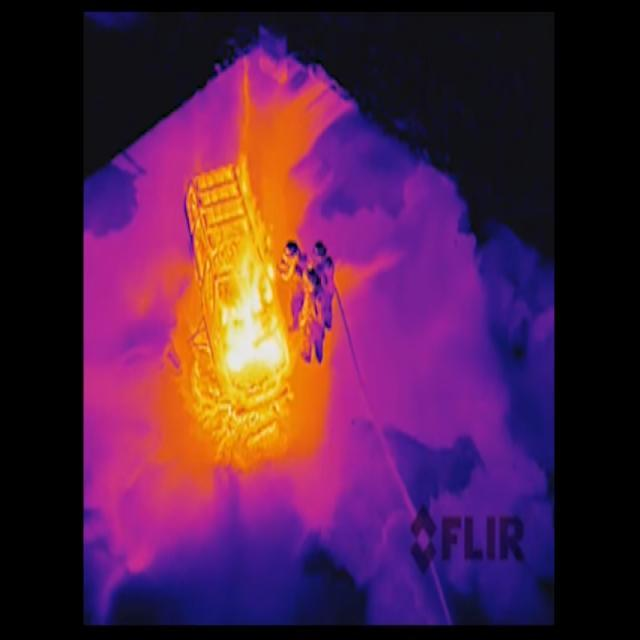fire: (219, 233, 289, 389)
